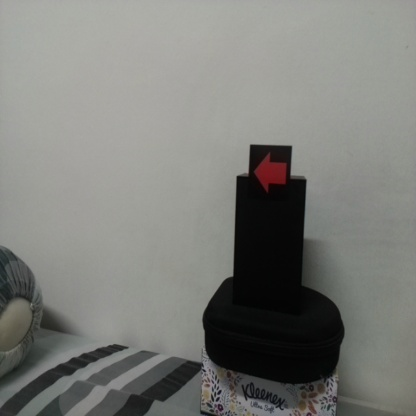id_4: (249, 147, 292, 200)
